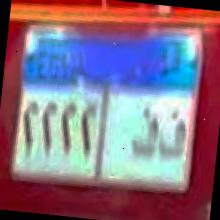2: (56, 101, 80, 156), (36, 100, 58, 158), (76, 105, 100, 158), (17, 98, 40, 153)
faa: (156, 108, 190, 163), (130, 107, 160, 164)
